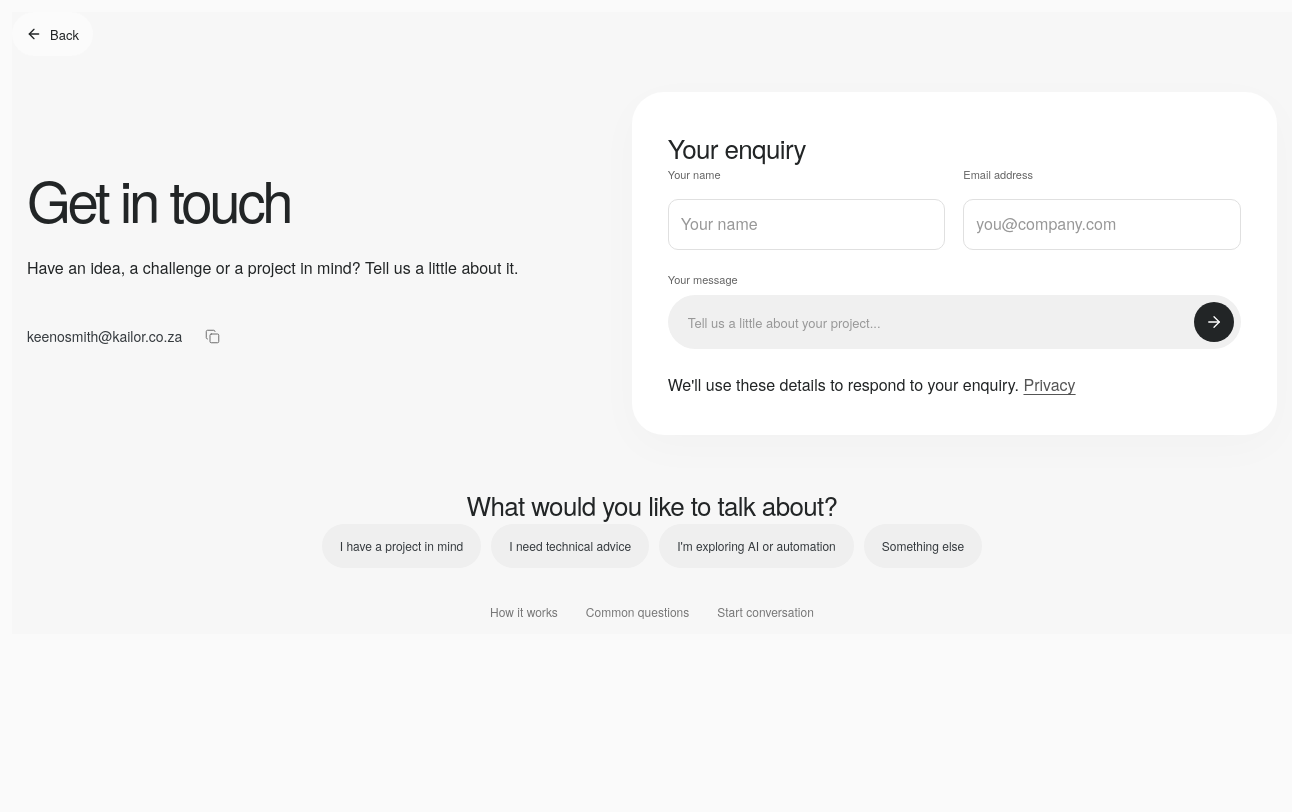
Test: validates fields, exposes errors and focuses the first invalid field
The width and height of the screenshot is (1292, 812).
Submit the form named "Contact enquiry", box [668,167,1241,399]
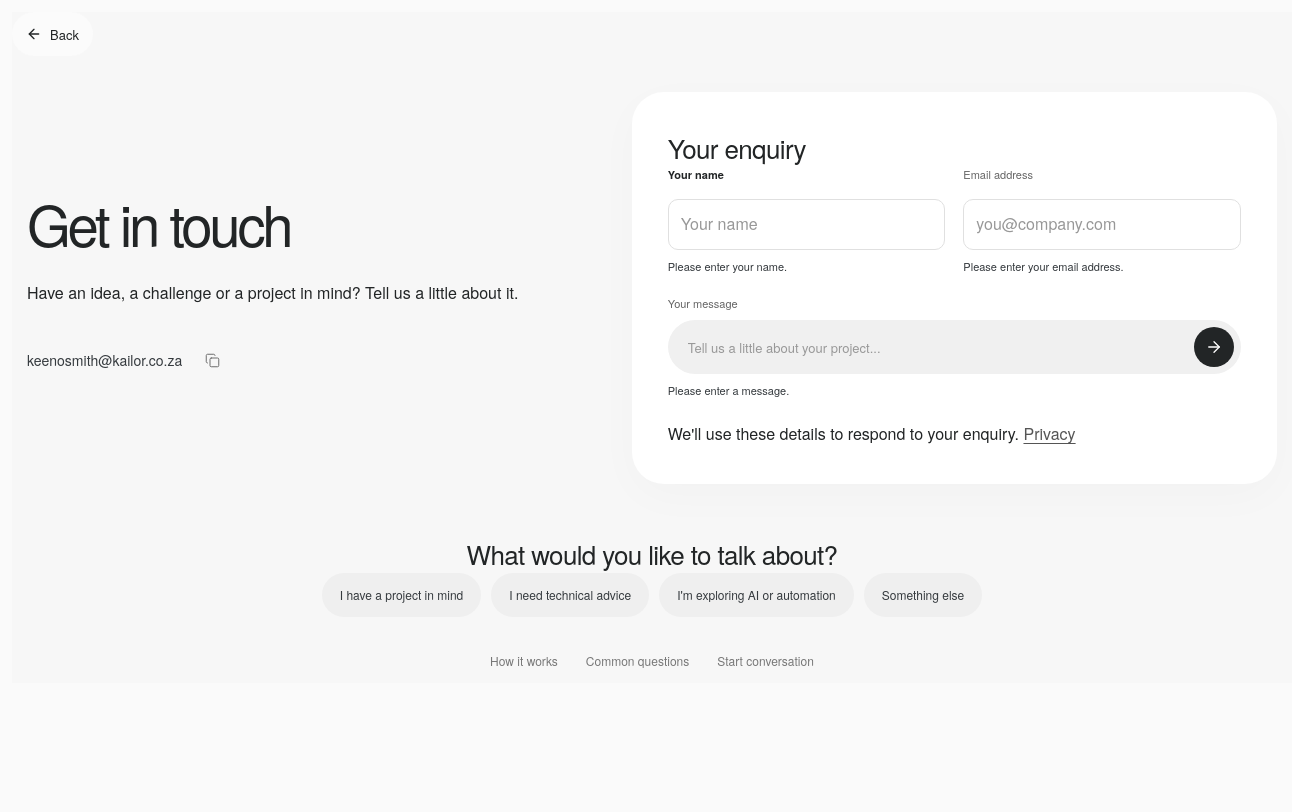
Expected: the number of messages is 3, [668,258,787,274]; [963,258,1124,274]; [668,382,789,398]
Type "Alex" into the field labelled "Your name" at (806, 225), box [668,199,945,250]
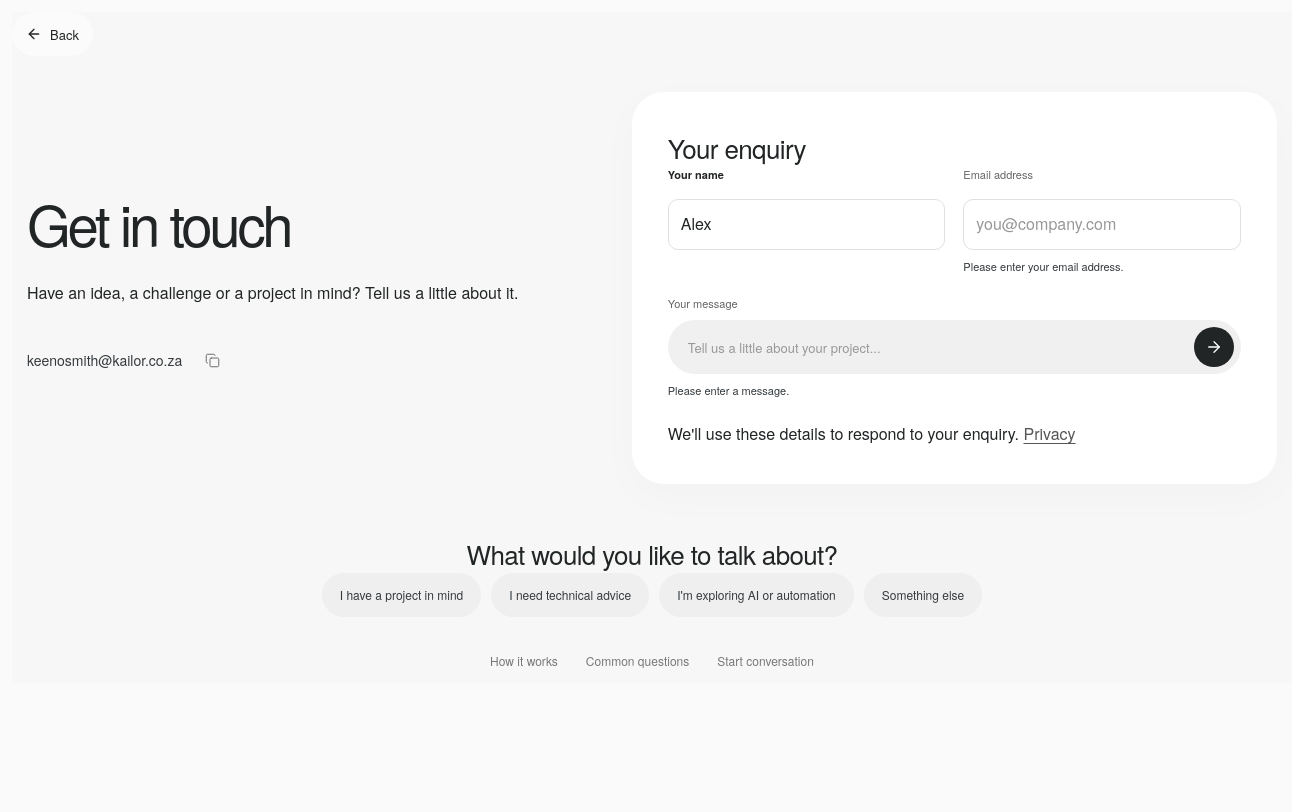
Type "bad-email" into the field labelled "Email address" at (1102, 225), box [963,199,1241,250]
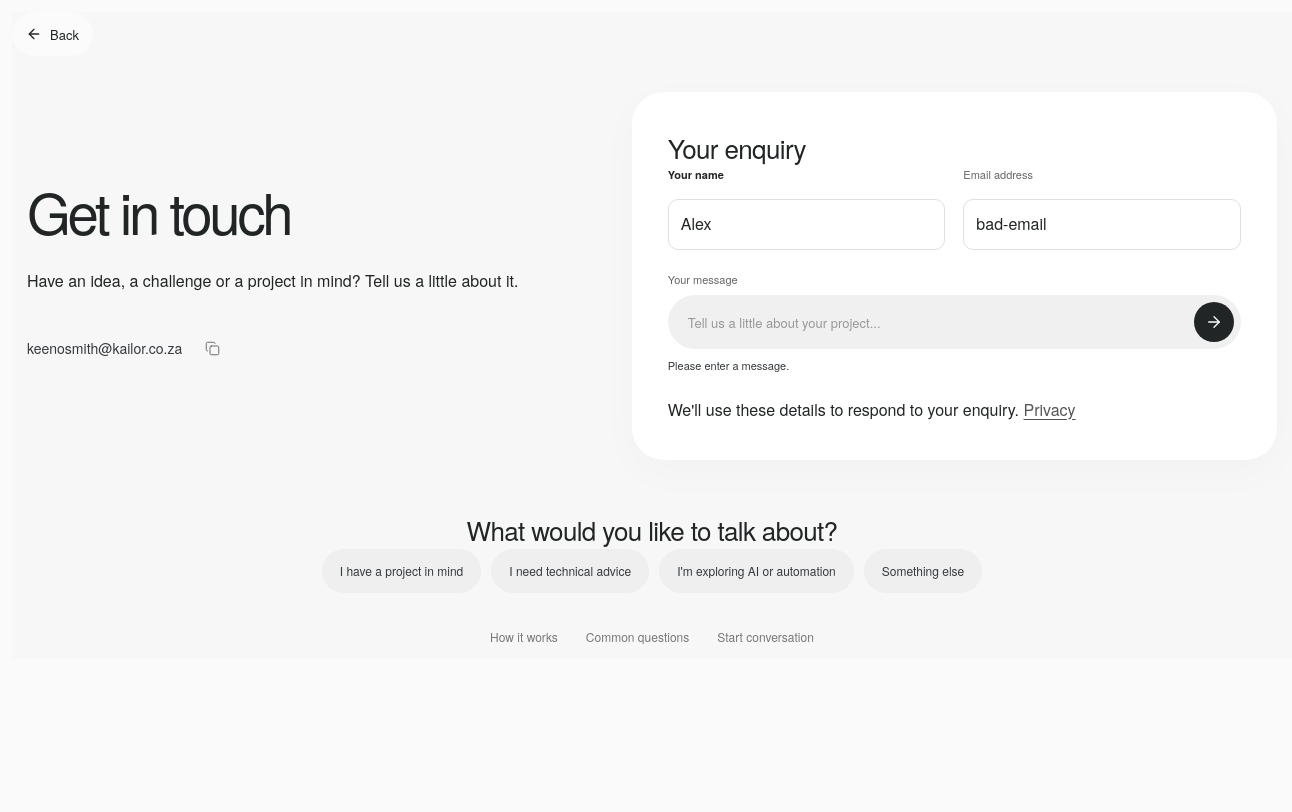
Type "Short" into the text box labelled "Your message" at (954, 322), box [668,295,1241,349]
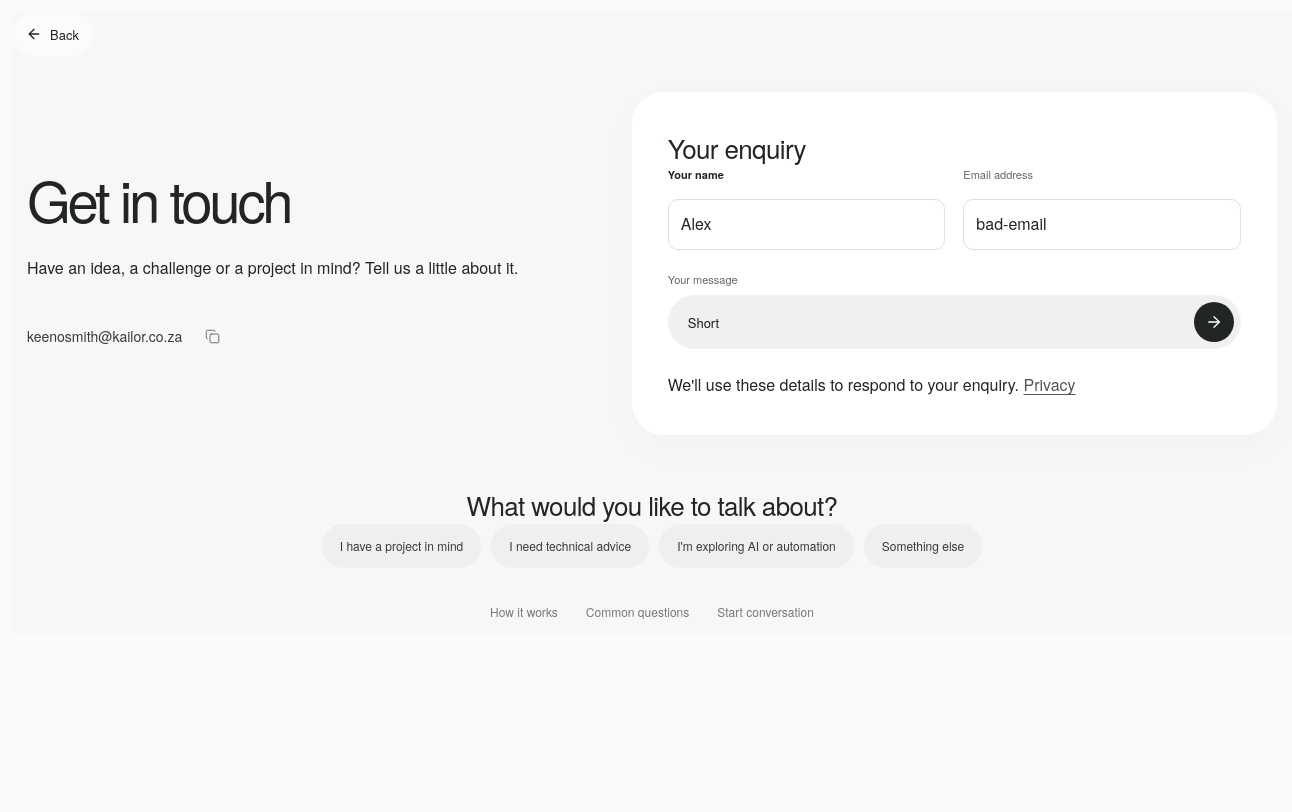
Submit the form named "Contact enquiry", box [668,167,1241,399]
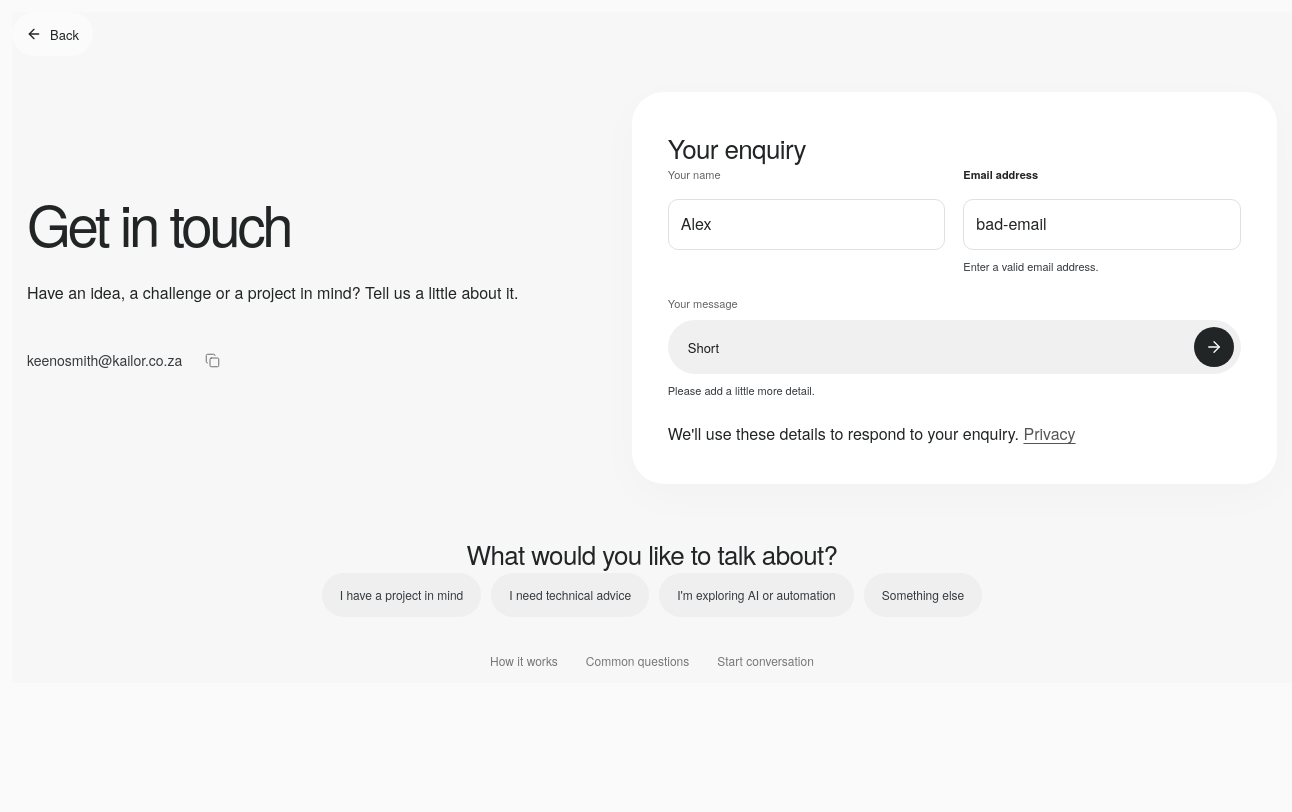
Expected: the text "Enter a valid email address." is shown, [963,258,1099,274]
Expected: the text "Please add a little more detail." is shown, [668,382,815,398]
